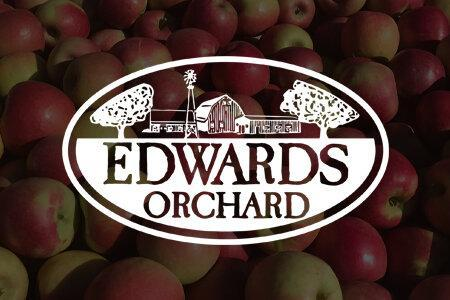apple: (1, 177, 76, 259), (348, 148, 418, 231), (305, 214, 386, 283), (1, 79, 76, 152), (330, 56, 399, 122), (386, 47, 447, 100), (340, 9, 399, 60), (182, 1, 238, 47), (28, 1, 89, 42), (1, 6, 44, 56), (276, 1, 314, 28)
